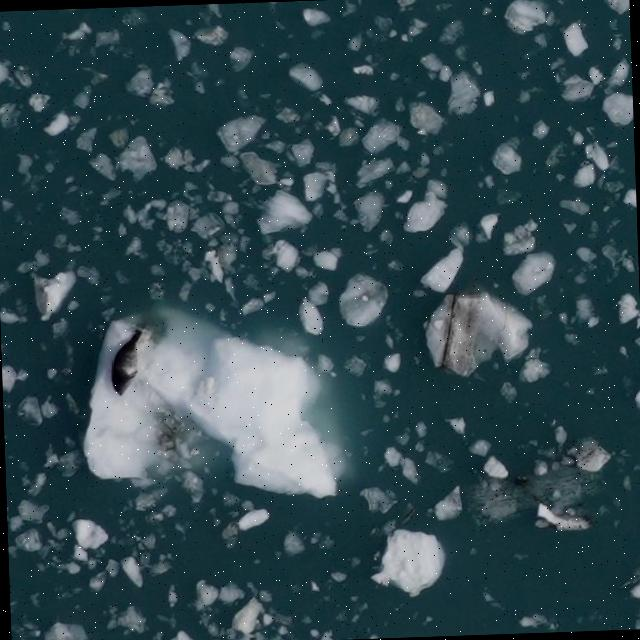seal: (113, 331, 143, 396)
